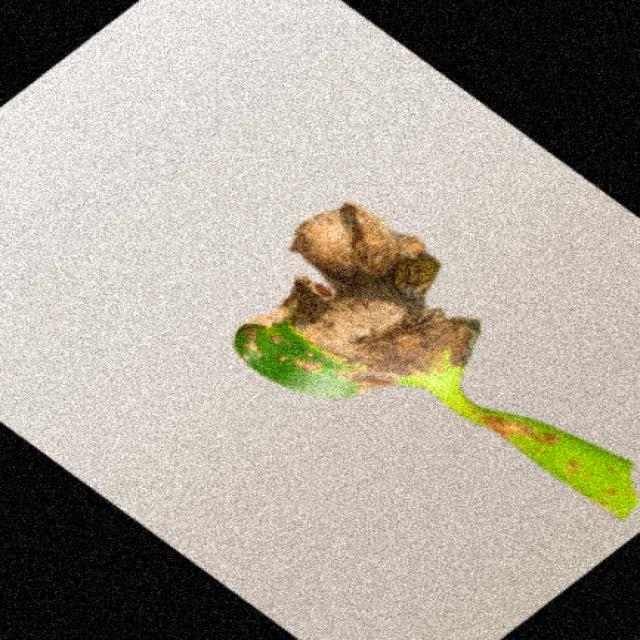daun berpenyakit karat: (235, 202, 637, 518)
